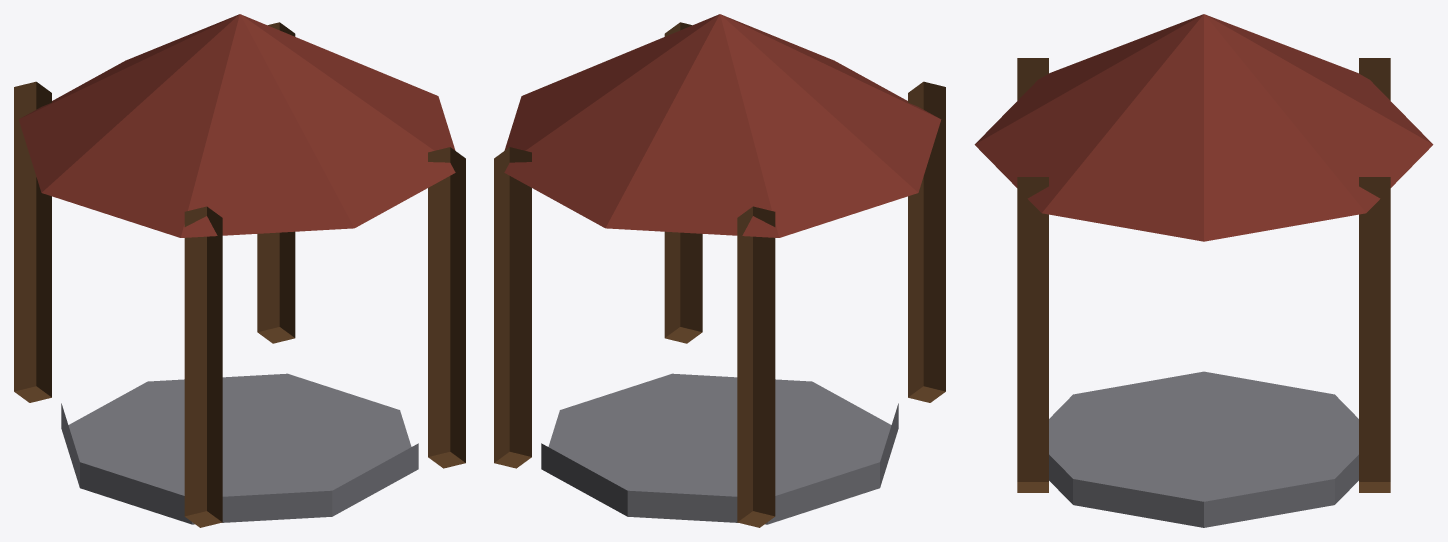
Rendered from gazebo.glb.
3 renders of one model, left to right at view 1: azimuth 30°, elevation 25°; view 2: azimuth 150°, elevation 25°; view 3: azimuth 270°, elevation 25°, orthographic.
Visible parts, largest first — view 1: gazebo; view 2: gazebo; view 3: gazebo.
Part boxes in pixels (x1,y1,x2,y2): gazebo: [14, 14, 465, 527]; gazebo: [494, 14, 945, 527]; gazebo: [974, 14, 1433, 527].
Bounding box in the file's own units: 1.29 × 1.35 × 1.29.
